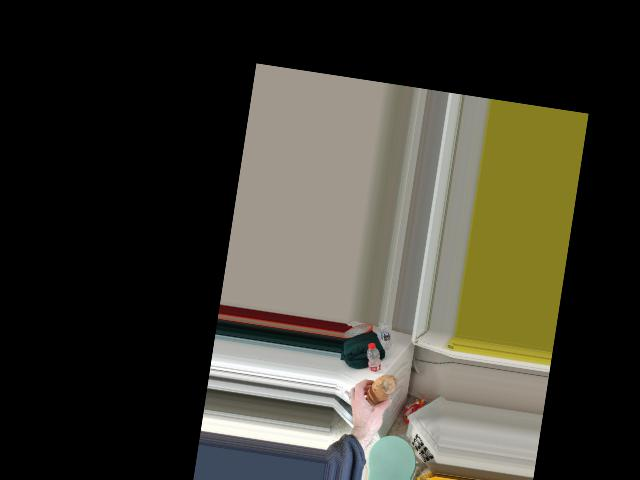sweet_potato: (365, 371, 397, 408)
